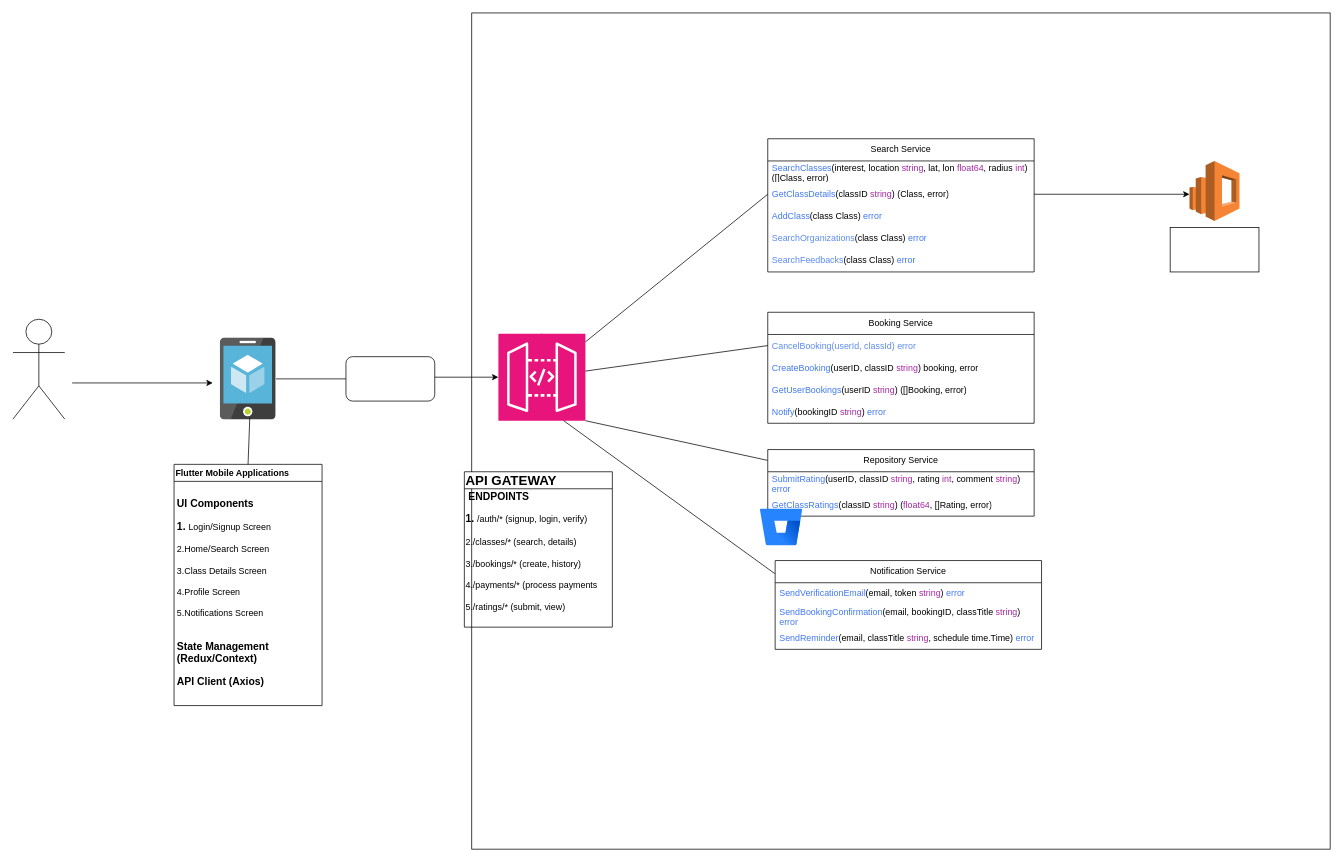
Some shapes in this 1343 by 862 pixel diagram are drawn without their labels. Each missing label, with the centre of its shape:
Client: the point at 38,368
Elastic Search Engine: the point at 1214,249
REST API (HTTP): the point at 390,378
